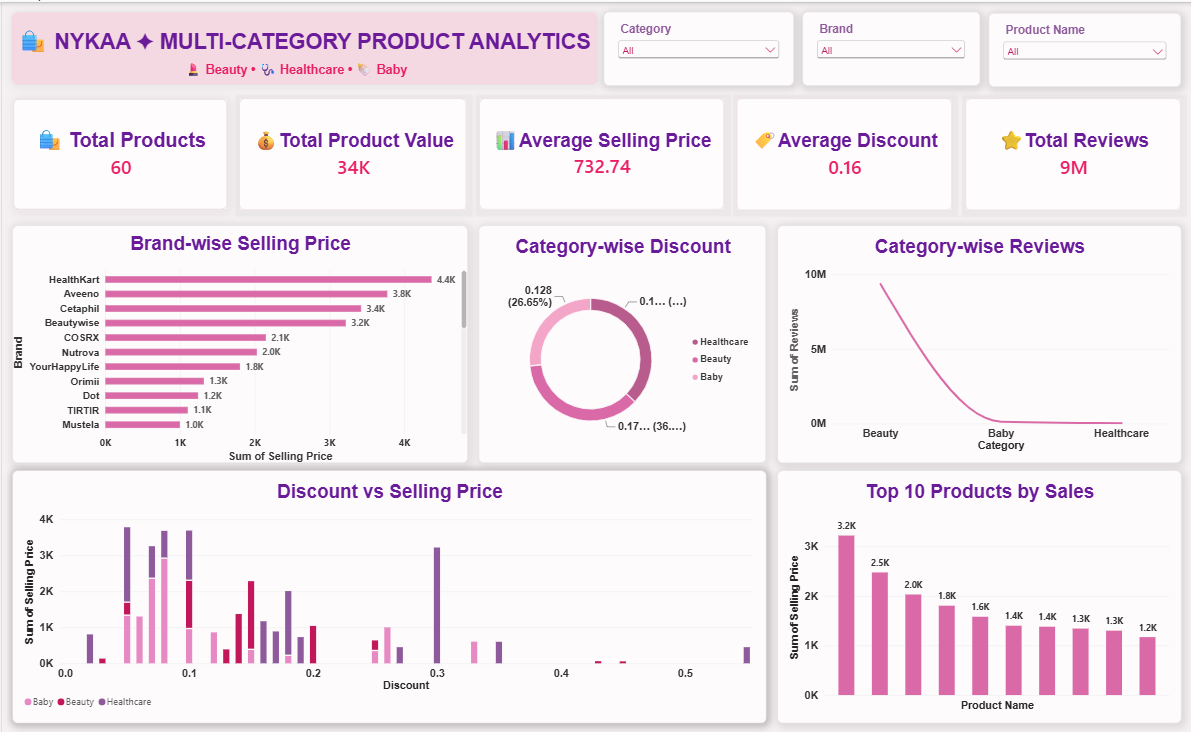

The dashboard page shown, as its layout file describes it:
{"tool":"powerbi","page":{"name":"Page 1","canvas":[1920,1080],"ordinal":0},"visuals":[{"type":"textbox","box":[25,12.5,869.6,108.9],"z":0},{"type":"textbox","box":[10.7,85.7,869.6,71.4],"z":1000},{"type":"cardVisual","fields":{"Data":["CountNonNull(nykaa_cleaned_products.Product Name)"]},"box":[25.5,140,320,167.3],"z":2000},{"type":"cardVisual","fields":{"Data":["Sum(nykaa_cleaned_products.Selling Price)"]},"box":[361.8,140,338.2,167.3],"z":3000},{"type":"cardVisual","fields":{"Data":["Avg(nykaa_cleaned_products.Discount)"]},"box":[1098.1,140.7,320,167.3],"z":4000},{"type":"cardVisual","fields":{"Data":["Sum(nykaa_cleaned_products.Reviews)"]},"box":[1437,140.7,320,167.3],"z":5000},{"type":"cardVisual","fields":{"Data":["Avg(nykaa_cleaned_products.Selling Price)"]},"box":[716.7,140.7,364.8,166.7],"z":6000},{"type":"barChart","title":" Brand-wise Selling Price","fields":{"Category":["nykaa_cleaned_products.Brand"],"Y":["Sum(nykaa_cleaned_products.Selling Price)"]},"box":[25.9,329.6,674.1,351.9],"z":7000},{"type":"lineChart","title":"Category-wise Reviews","fields":{"Category":["nykaa_cleaned_products.Category"],"Y":["Sum(nykaa_cleaned_products.Reviews)"]},"box":[1159.3,329.6,598.1,351.9],"z":8000},{"type":"donutChart","title":"Category-wise Discount","fields":{"Category":["nykaa_cleaned_products.Category"],"Y":["Avg(nykaa_cleaned_products.Discount)"]},"box":[716.7,329.6,425.9,351.9],"z":9000},{"type":"columnChart","title":"Discount vs Selling Price","fields":{"Category":["nykaa_cleaned_products.Discount"],"Series":["nykaa_cleaned_products.Category"],"Y":["Sum(nykaa_cleaned_products.Selling Price)"]},"box":[25.9,692.6,1116.7,374.1],"z":10000},{"type":"clusteredColumnChart","title":"Top 10 Products by Sales","fields":{"Category":["nykaa_cleaned_products.Product Name"],"Y":["Sum(nykaa_cleaned_products.Selling Price)"]},"box":[1159.3,692.6,598.1,374.1],"z":11000},{"type":"slicer","fields":{"Values":["nykaa_cleaned_products.Category"]},"box":[901.9,13,281.5,109.3],"z":12000},{"type":"slicer","fields":{"Values":["nykaa_cleaned_products.Brand"]},"box":[1196.3,13,263,109.3],"z":13000},{"type":"slicer","fields":{"Values":["nykaa_cleaned_products.Product Name"]},"box":[1472.2,14.8,285.2,109.3],"z":14000}]}

Visuals, with their boxes on the page's 1920x1080 design canvas (x1, y1, x2, y2). These are canvas units, not pixel positions in the 1191x732 screenshot, which may show the page scaled, cropped or inside an application window:
textbox: [left=25, top=12, right=895, bottom=121]
textbox: [left=11, top=86, right=880, bottom=157]
cardVisual - CountNonNull(nykaa_cleaned_products.Product Name): [left=26, top=140, right=346, bottom=307]
cardVisual - Sum(nykaa_cleaned_products.Selling Price): [left=362, top=140, right=700, bottom=307]
cardVisual - Avg(nykaa_cleaned_products.Discount): [left=1098, top=141, right=1418, bottom=308]
cardVisual - Sum(nykaa_cleaned_products.Reviews): [left=1437, top=141, right=1757, bottom=308]
cardVisual - Avg(nykaa_cleaned_products.Selling Price): [left=717, top=141, right=1082, bottom=307]
" Brand-wise Selling Price" barChart: [left=26, top=330, right=700, bottom=682]
"Category-wise Reviews" lineChart: [left=1159, top=330, right=1757, bottom=682]
"Category-wise Discount" donutChart: [left=717, top=330, right=1143, bottom=682]
"Discount vs Selling Price" columnChart: [left=26, top=693, right=1143, bottom=1067]
"Top 10 Products by Sales" clusteredColumnChart: [left=1159, top=693, right=1757, bottom=1067]
slicer - nykaa_cleaned_products.Category: [left=902, top=13, right=1183, bottom=122]
slicer - nykaa_cleaned_products.Brand: [left=1196, top=13, right=1459, bottom=122]
slicer - nykaa_cleaned_products.Product Name: [left=1472, top=15, right=1757, bottom=124]
